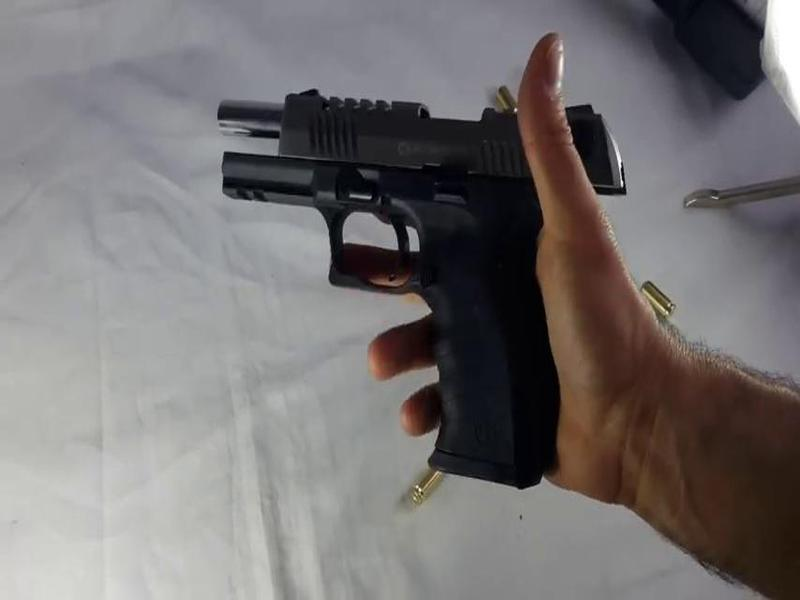Pistola: (198, 62, 626, 489)
